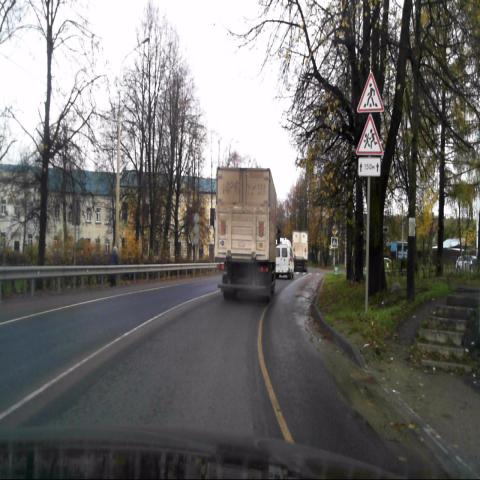1_22: (356, 73, 384, 114)
1_23: (355, 116, 384, 156)
8_2_1: (358, 157, 381, 178)
